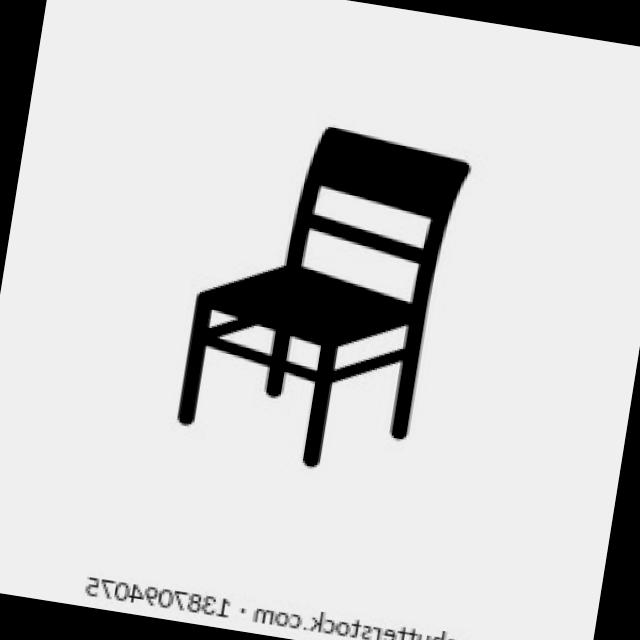obstacle: (117, 58, 524, 500)
